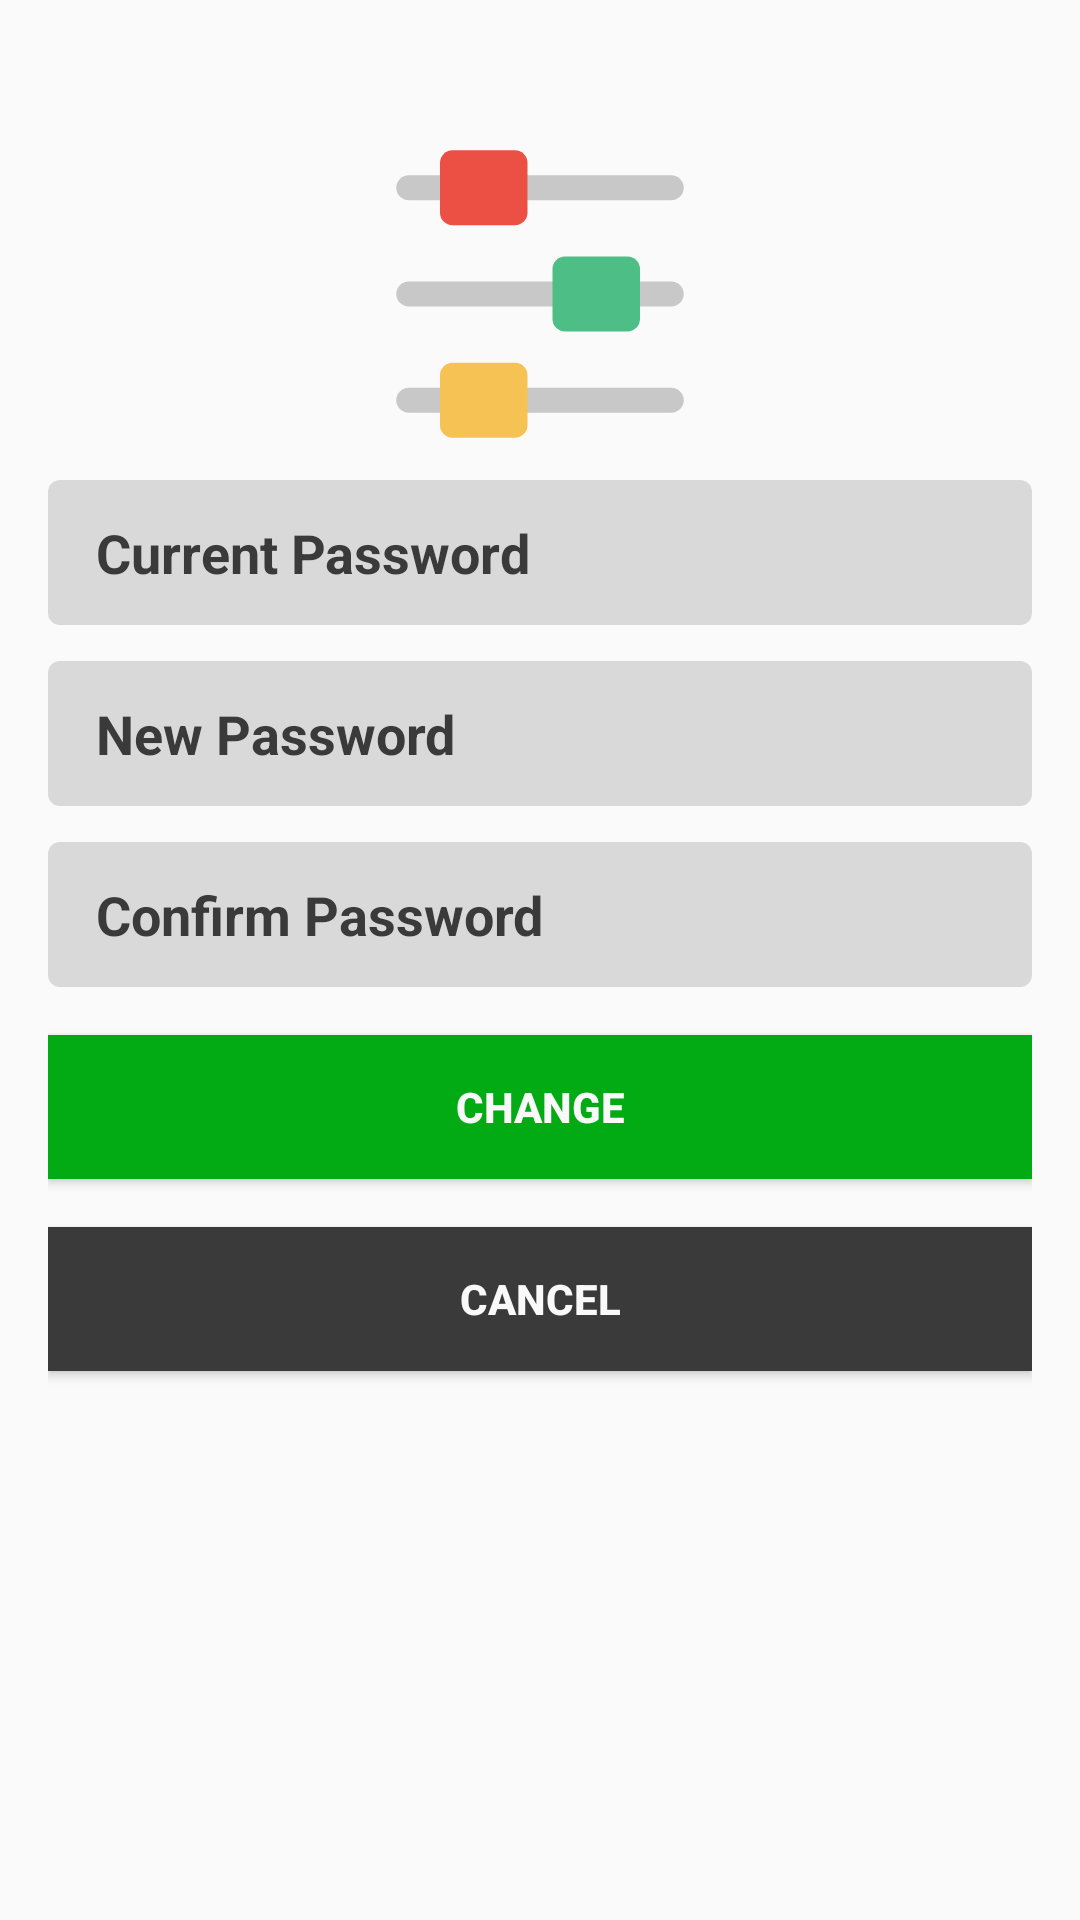

Named icons in this screenshot (1080px x 1920px) and their centers, point (x, y):
setting: point (540, 294)
